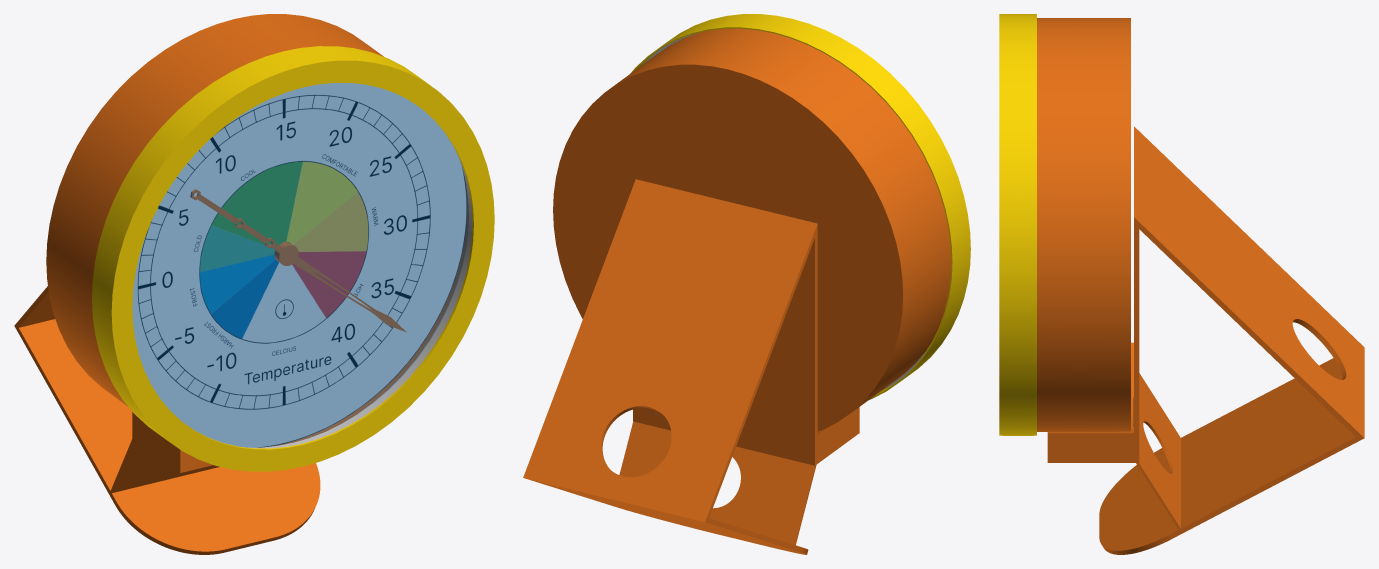
The model's file is temperature_Blender.fbx.
The picture shows the model from 3 angles, left to right: view 1: azimuth 30°, elevation 25°; view 2: azimuth 150°, elevation 25°; view 3: azimuth 270°, elevation 25°; orthographic projection. The views are drawn at different scales.
Visible parts, largest first — view 1: Glass, DialGraphic, Dial_Cover, MainBody, GaugeStand, Dial_Holder_2, Pointer; view 2: MainBody, GaugeStand, Dial_Cover; view 3: GaugeStand, MainBody, Dial_Cover.
Part boxes in pixels (box(x1,y1,x2,y2)): Glass: box(132, 83, 468, 447); DialGraphic: box(132, 83, 466, 447); Dial_Cover: box(92, 46, 494, 471); MainBody: box(46, 14, 468, 446); GaugeStand: box(14, 286, 320, 554); Dial_Holder_2: box(249, 157, 472, 448); Pointer: box(190, 189, 406, 332); MainBody: box(553, 28, 951, 431); GaugeStand: box(523, 179, 859, 554); Dial_Cover: box(630, 14, 970, 399); GaugeStand: box(1047, 126, 1364, 554); MainBody: box(1037, 18, 1130, 431); Dial_Cover: box(999, 14, 1036, 435).
Bounding box in the file's own units: 15.7 × 20.38 × 13.59.
